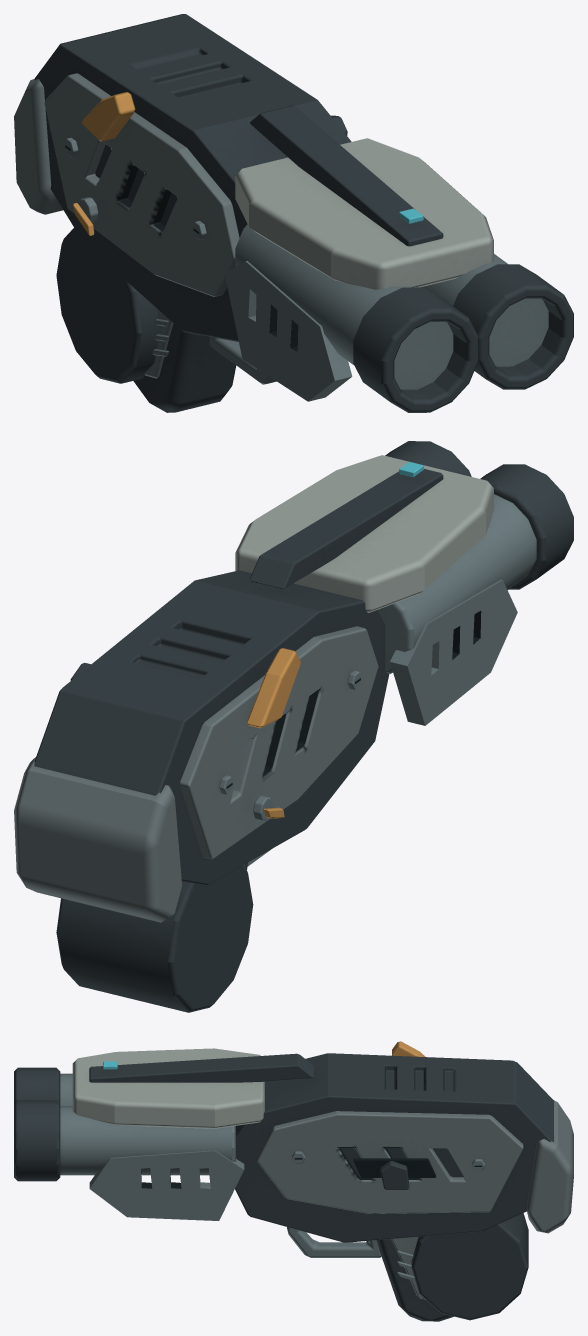
Rendered from shotgun.glb.
3 views of the same model, one above another, from view 1: azimuth 30°, elevation 25°; view 2: azimuth 150°, elevation 25°; view 3: azimuth 270°, elevation 25° (orthographic). The views are drawn at different scales.
Visible parts, largest first — view 1: shotgun-ka12-arsenal; view 2: shotgun-ka12-arsenal; view 3: shotgun-ka12-arsenal.
Boxes of the visible parts, x1,y1,x2,y2 form: shotgun-ka12-arsenal: (14, 14, 573, 412); shotgun-ka12-arsenal: (14, 441, 573, 1012); shotgun-ka12-arsenal: (14, 1041, 573, 1321).
Size of the model in its own units: 0.4415 by 0.6724 by 1.34.
Materials: 1 (1 with a texture image).
